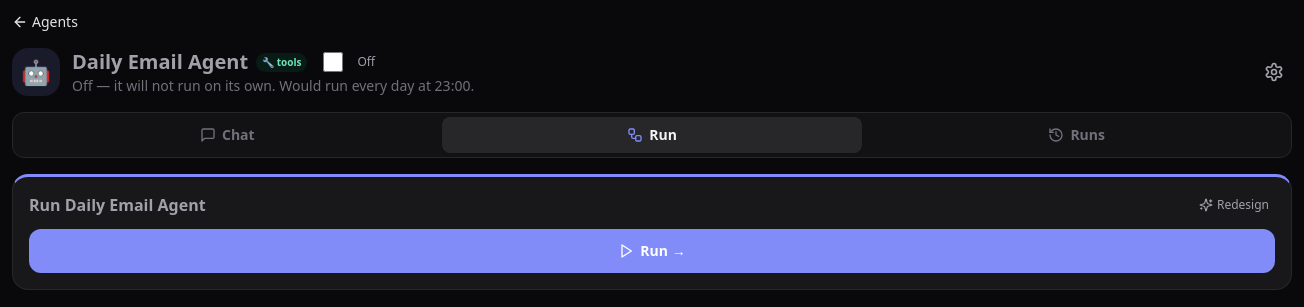
Test: the switch in the header (BEA-1603) › tapping the switch PATCHes { enabled } through the existing route and toasts Switched on / Switched off
Expected: the text "Off" is shown, [315,52,375,72]
Click the checkbox named "switch it on" at (333, 62), box [315,52,351,72]
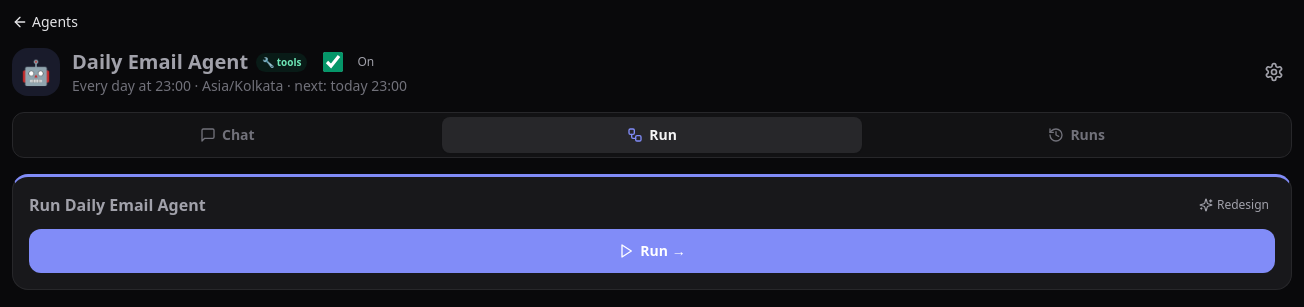
Expected: the checkbox named "switch it off" is checked
Click the checkbox named "switch it off" at (333, 62), box [315,52,351,72]
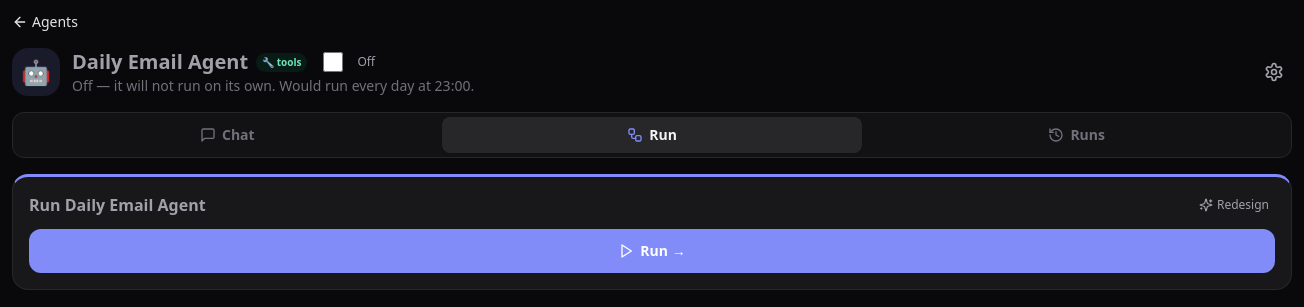
Expected: the text with test id "off-line" is shown, [72,76,474,95]
